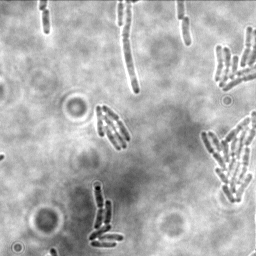Dividing: (122, 1, 142, 96), (40, 8, 52, 36)
Microcolony: (199, 109, 255, 206), (211, 25, 255, 95), (88, 184, 126, 249), (95, 103, 132, 151), (181, 16, 193, 49)
